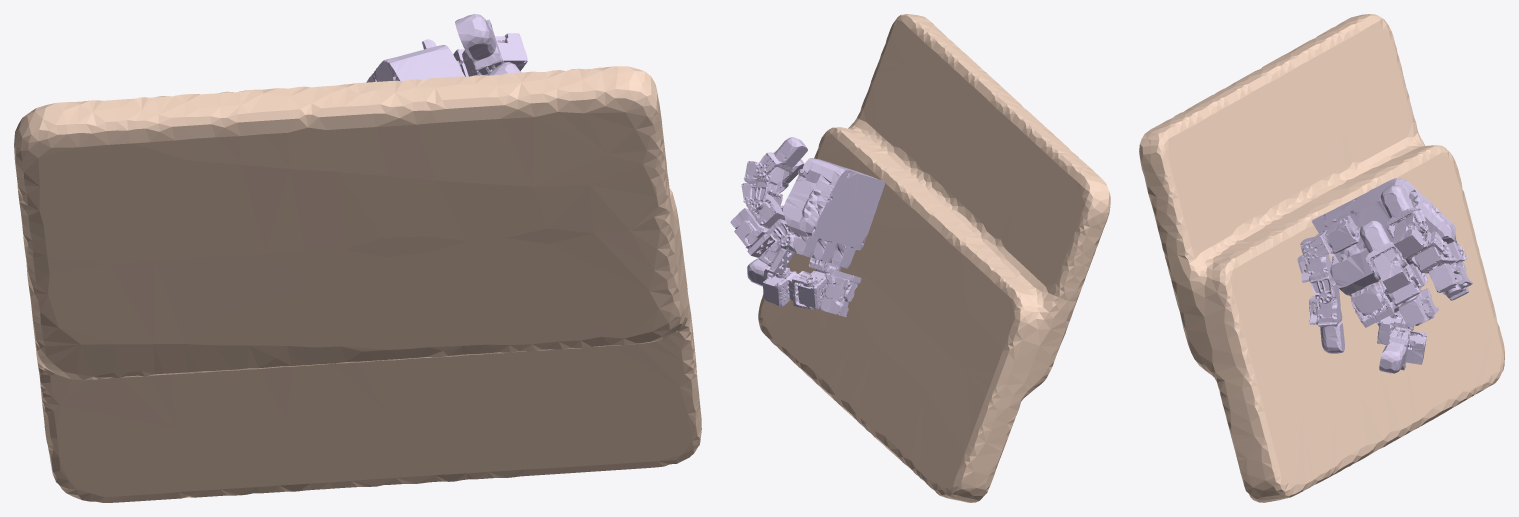
Rendered from af5eb7aba81ac4-final.glb.
3 renders of one model, left to right at view 1: azimuth 30°, elevation 25°; view 2: azimuth 150°, elevation 25°; view 3: azimuth 270°, elevation 25°, orthographic. The views are drawn at different scales.
Parts seen in each view (by area): view 1: world, LEAP_hand; view 2: world, LEAP_hand; view 3: world, LEAP_hand.
Boxes of the visible parts, left/top/right/bottom form: world: left=14, top=66, right=701, bottom=502; LEAP_hand: left=366, top=14, right=527, bottom=82; world: left=758, top=14, right=1110, bottom=502; LEAP_hand: left=730, top=137, right=885, bottom=316; world: left=1139, top=14, right=1504, bottom=502; LEAP_hand: left=1297, top=178, right=1472, bottom=373.
Bounding box in the file's own units: 0.4927 × 0.4002 × 0.3663.
